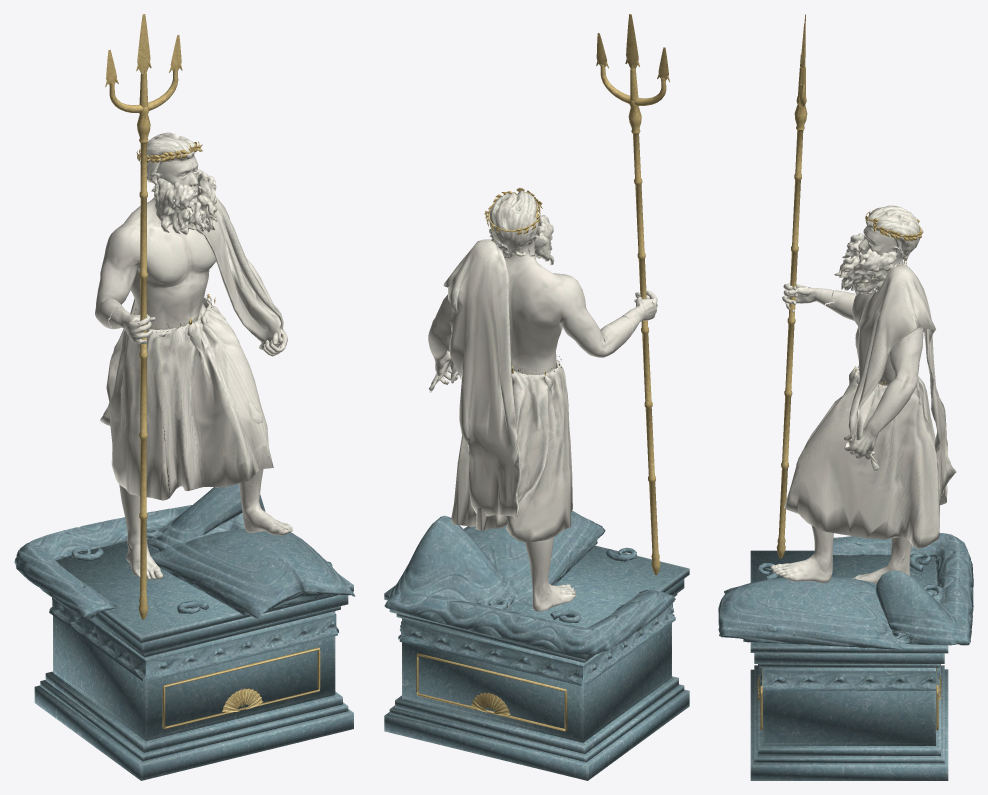
Rendered from guardian-tides-lod0.glb.
3 views of the same model, side by side, from view 1: azimuth 30°, elevation 25°; view 2: azimuth 150°, elevation 25°; view 3: azimuth 270°, elevation 25° (orthographic). The views are drawn at different scales.
Visible parts, largest first — view 1: TIDES__PEDESTAL, TIDES__CLOTH, TIDES__WAVES, TIDES__BODY, TIDES__TRIDENT, TIDES__HAIR_BEARD, TIDES__DETAILS, TIDES__FACE, TIDES__HAND_GRIP; view 2: TIDES__PEDESTAL, TIDES__CLOTH, TIDES__WAVES, TIDES__BODY, TIDES__TRIDENT, TIDES__HAIR_BEARD, TIDES__DETAILS, TIDES__HAND_GRIP; view 3: TIDES__PEDESTAL, TIDES__CLOTH, TIDES__WAVES, TIDES__BODY, TIDES__HAIR_BEARD, TIDES__TRIDENT, TIDES__DETAILS, TIDES__HAND_GRIP, TIDES__FACE.
Boxes of the visible parts, x1,y1,x2,y2 form: TIDES__PEDESTAL: [34, 542, 353, 780]; TIDES__CLOTH: [100, 196, 283, 500]; TIDES__WAVES: [14, 483, 355, 619]; TIDES__BODY: [95, 197, 292, 579]; TIDES__TRIDENT: [105, 14, 182, 619]; TIDES__HAIR_BEARD: [140, 132, 217, 235]; TIDES__DETAILS: [132, 141, 320, 729]; TIDES__FACE: [152, 155, 199, 200]; TIDES__HAND_GRIP: [108, 307, 155, 344]; TIDES__PEDESTAL: [384, 545, 689, 780]; TIDES__CLOTH: [429, 239, 572, 542]; TIDES__WAVES: [384, 510, 675, 654]; TIDES__BODY: [428, 245, 633, 611]; TIDES__TRIDENT: [596, 14, 669, 574]; TIDES__HAIR_BEARD: [489, 190, 554, 265]; TIDES__DETAILS: [416, 188, 567, 731]; TIDES__HAND_GRIP: [622, 290, 657, 333]; TIDES__PEDESTAL: [750, 550, 948, 780]; TIDES__CLOTH: [784, 264, 956, 548]; TIDES__WAVES: [718, 533, 973, 649]; TIDES__BODY: [770, 253, 925, 583]; TIDES__HAIR_BEARD: [834, 205, 919, 295]; TIDES__TRIDENT: [776, 14, 807, 558]; TIDES__DETAILS: [757, 209, 941, 730]; TIDES__HAND_GRIP: [782, 283, 834, 312]; TIDES__FACE: [858, 225, 901, 265].
Bounding box in the file's own units: 3.37 × 9.9 × 3.34.
3 materials, 3 textured.
